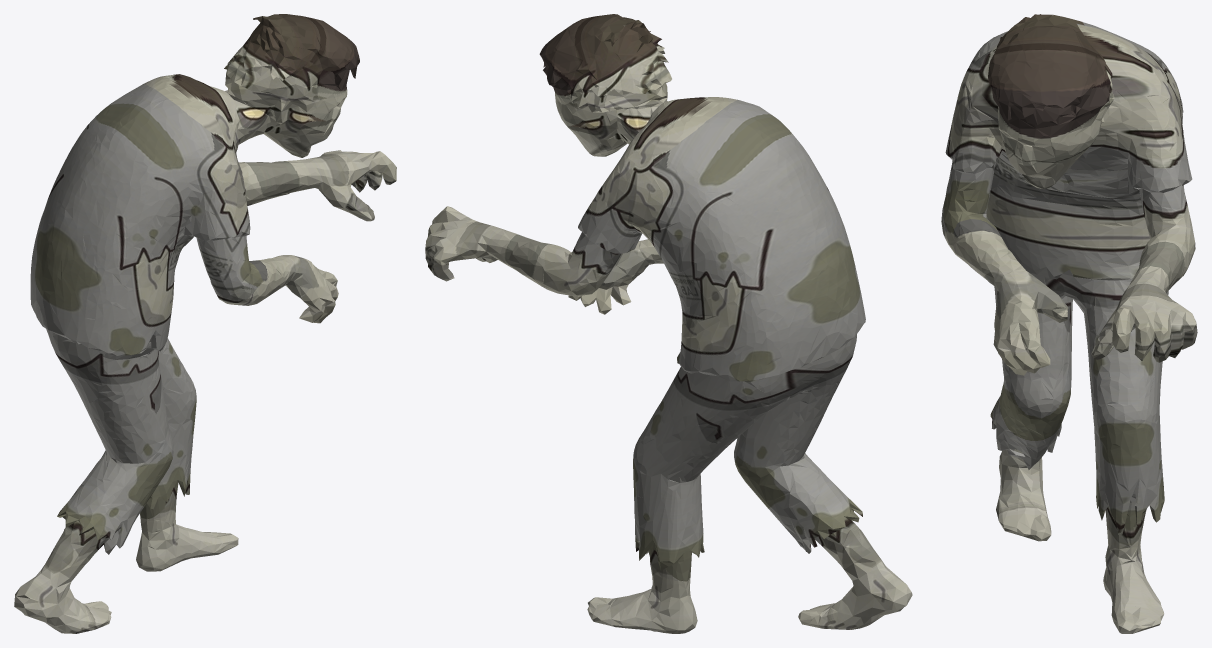
The model's file is zombie.glb.
3 renders of one model, left to right at view 1: azimuth 30°, elevation 25°; view 2: azimuth 150°, elevation 25°; view 3: azimuth 270°, elevation 25°, orthographic. The views are drawn at different scales.
Visible parts, largest first — view 1: geometry_0; view 2: geometry_0; view 3: geometry_0.
Boxes of the visible parts, x1,y1,x2,y2 form: geometry_0: (14, 14, 396, 633); geometry_0: (425, 14, 912, 633); geometry_0: (941, 14, 1197, 633).
Size of the model in its own units: 1.45 by 1.8 by 0.6715.
1 material, 1 textured.
